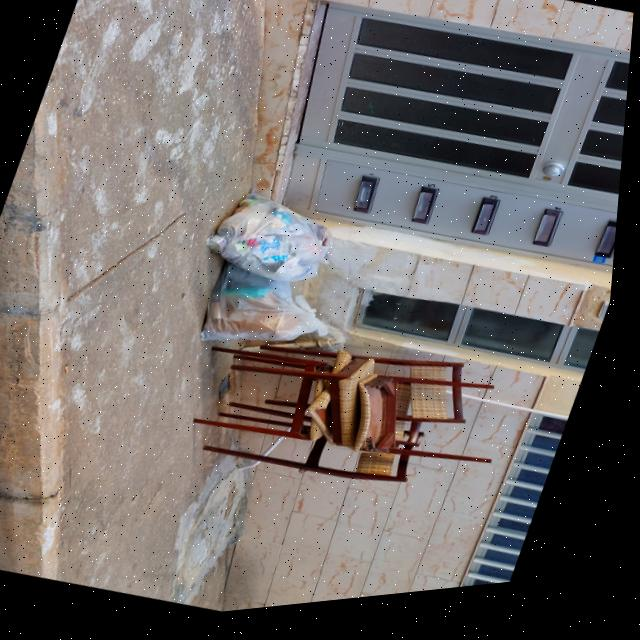Organic Waste -White Bag-: (202, 187, 351, 305), (199, 264, 334, 376)
Other: (177, 300, 509, 537)
